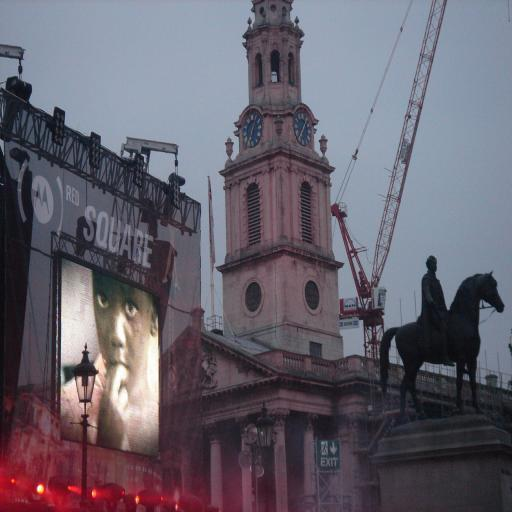horse: (378, 270, 506, 426)
